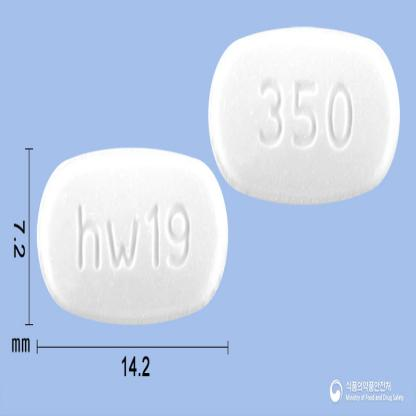pill: (206, 23, 404, 206), (34, 146, 230, 324)
